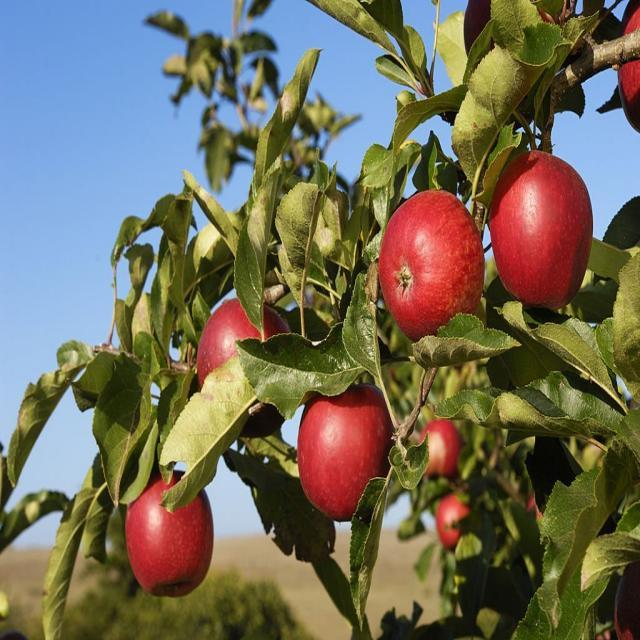Red Apple: (376, 191, 489, 331), (499, 153, 595, 304), (128, 470, 215, 595), (302, 388, 385, 519), (205, 299, 291, 423), (465, 1, 566, 59), (620, 3, 640, 131), (426, 419, 460, 481), (617, 555, 640, 640), (441, 500, 471, 547)
